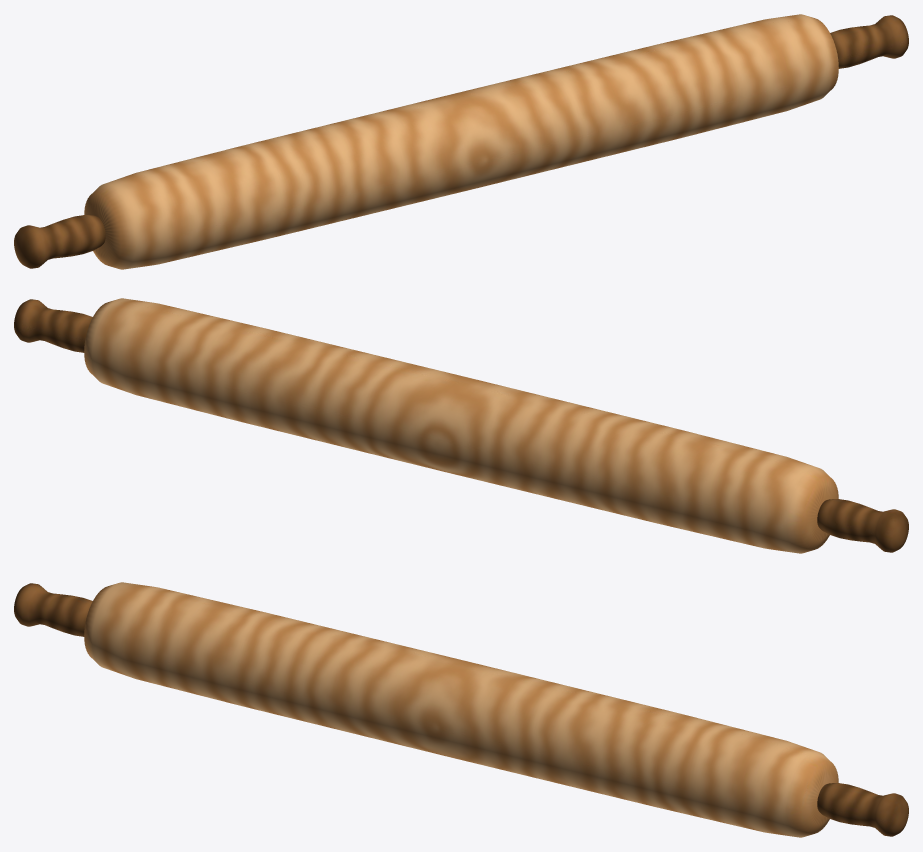
File: belan.glb
The picture shows the model from 3 angles, top to bottom: view 1: azimuth 30°, elevation 25°; view 2: azimuth 150°, elevation 25°; view 3: azimuth 330°, elevation 25°; orthographic projection.
Visible parts, largest first — view 1: belan; view 2: belan; view 3: belan.
Boxes of the visible parts, x1,y1,x2,y2 form: belan: (14, 14, 908, 269); belan: (14, 298, 908, 553); belan: (14, 582, 908, 837).
Bounding box in the file's own units: 2.09 × 0.199 × 0.199.
Materials: 1 (1 with a texture image).
